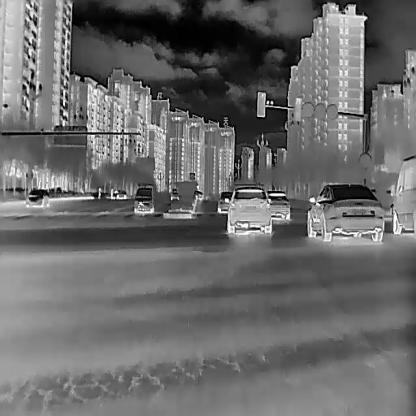car: (304, 180, 384, 242), (386, 151, 416, 235), (226, 186, 273, 234), (265, 188, 291, 219), (132, 186, 154, 214), (26, 188, 50, 209), (217, 190, 236, 212), (112, 188, 126, 200), (169, 187, 178, 199)
